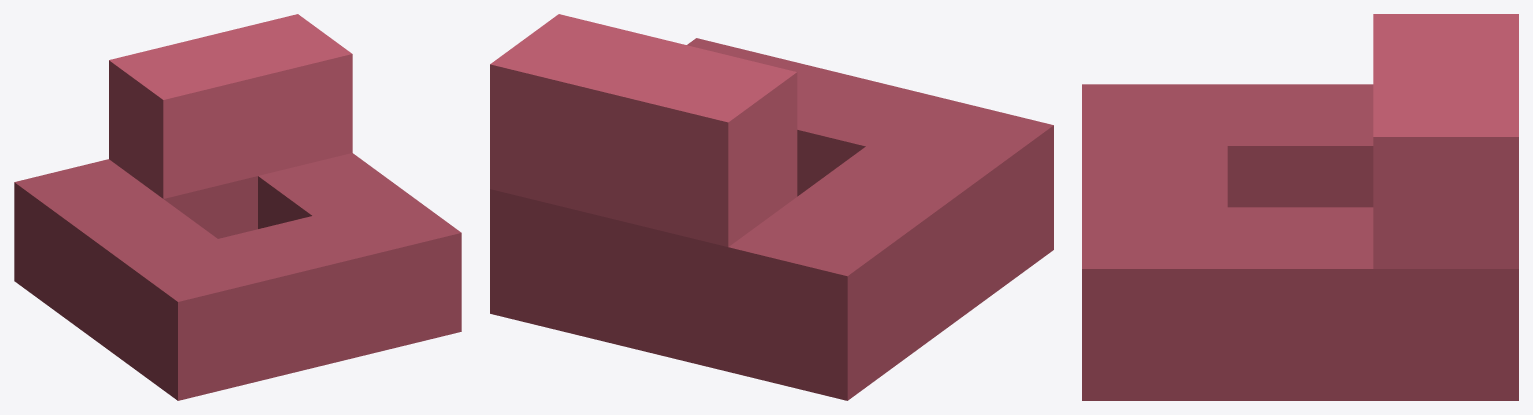
The model's file is anillo_rubi_01.glb.
3 views of the same model, side by side, from view 1: azimuth 30°, elevation 25°; view 2: azimuth 150°, elevation 25°; view 3: azimuth 270°, elevation 25° (orthographic). The views are drawn at different scales.
Visible parts, largest first — view 1: anillo_rubi; view 2: anillo_rubi; view 3: anillo_rubi.
Part boxes in pixels (x1=…): anillo_rubi: x1=14, y1=14, x2=461, y2=400; anillo_rubi: x1=490, y1=14, x2=1053, y2=400; anillo_rubi: x1=1082, y1=14, x2=1518, y2=400.
Bounding box in the file's own units: 0.25 × 0.1667 × 0.25.
